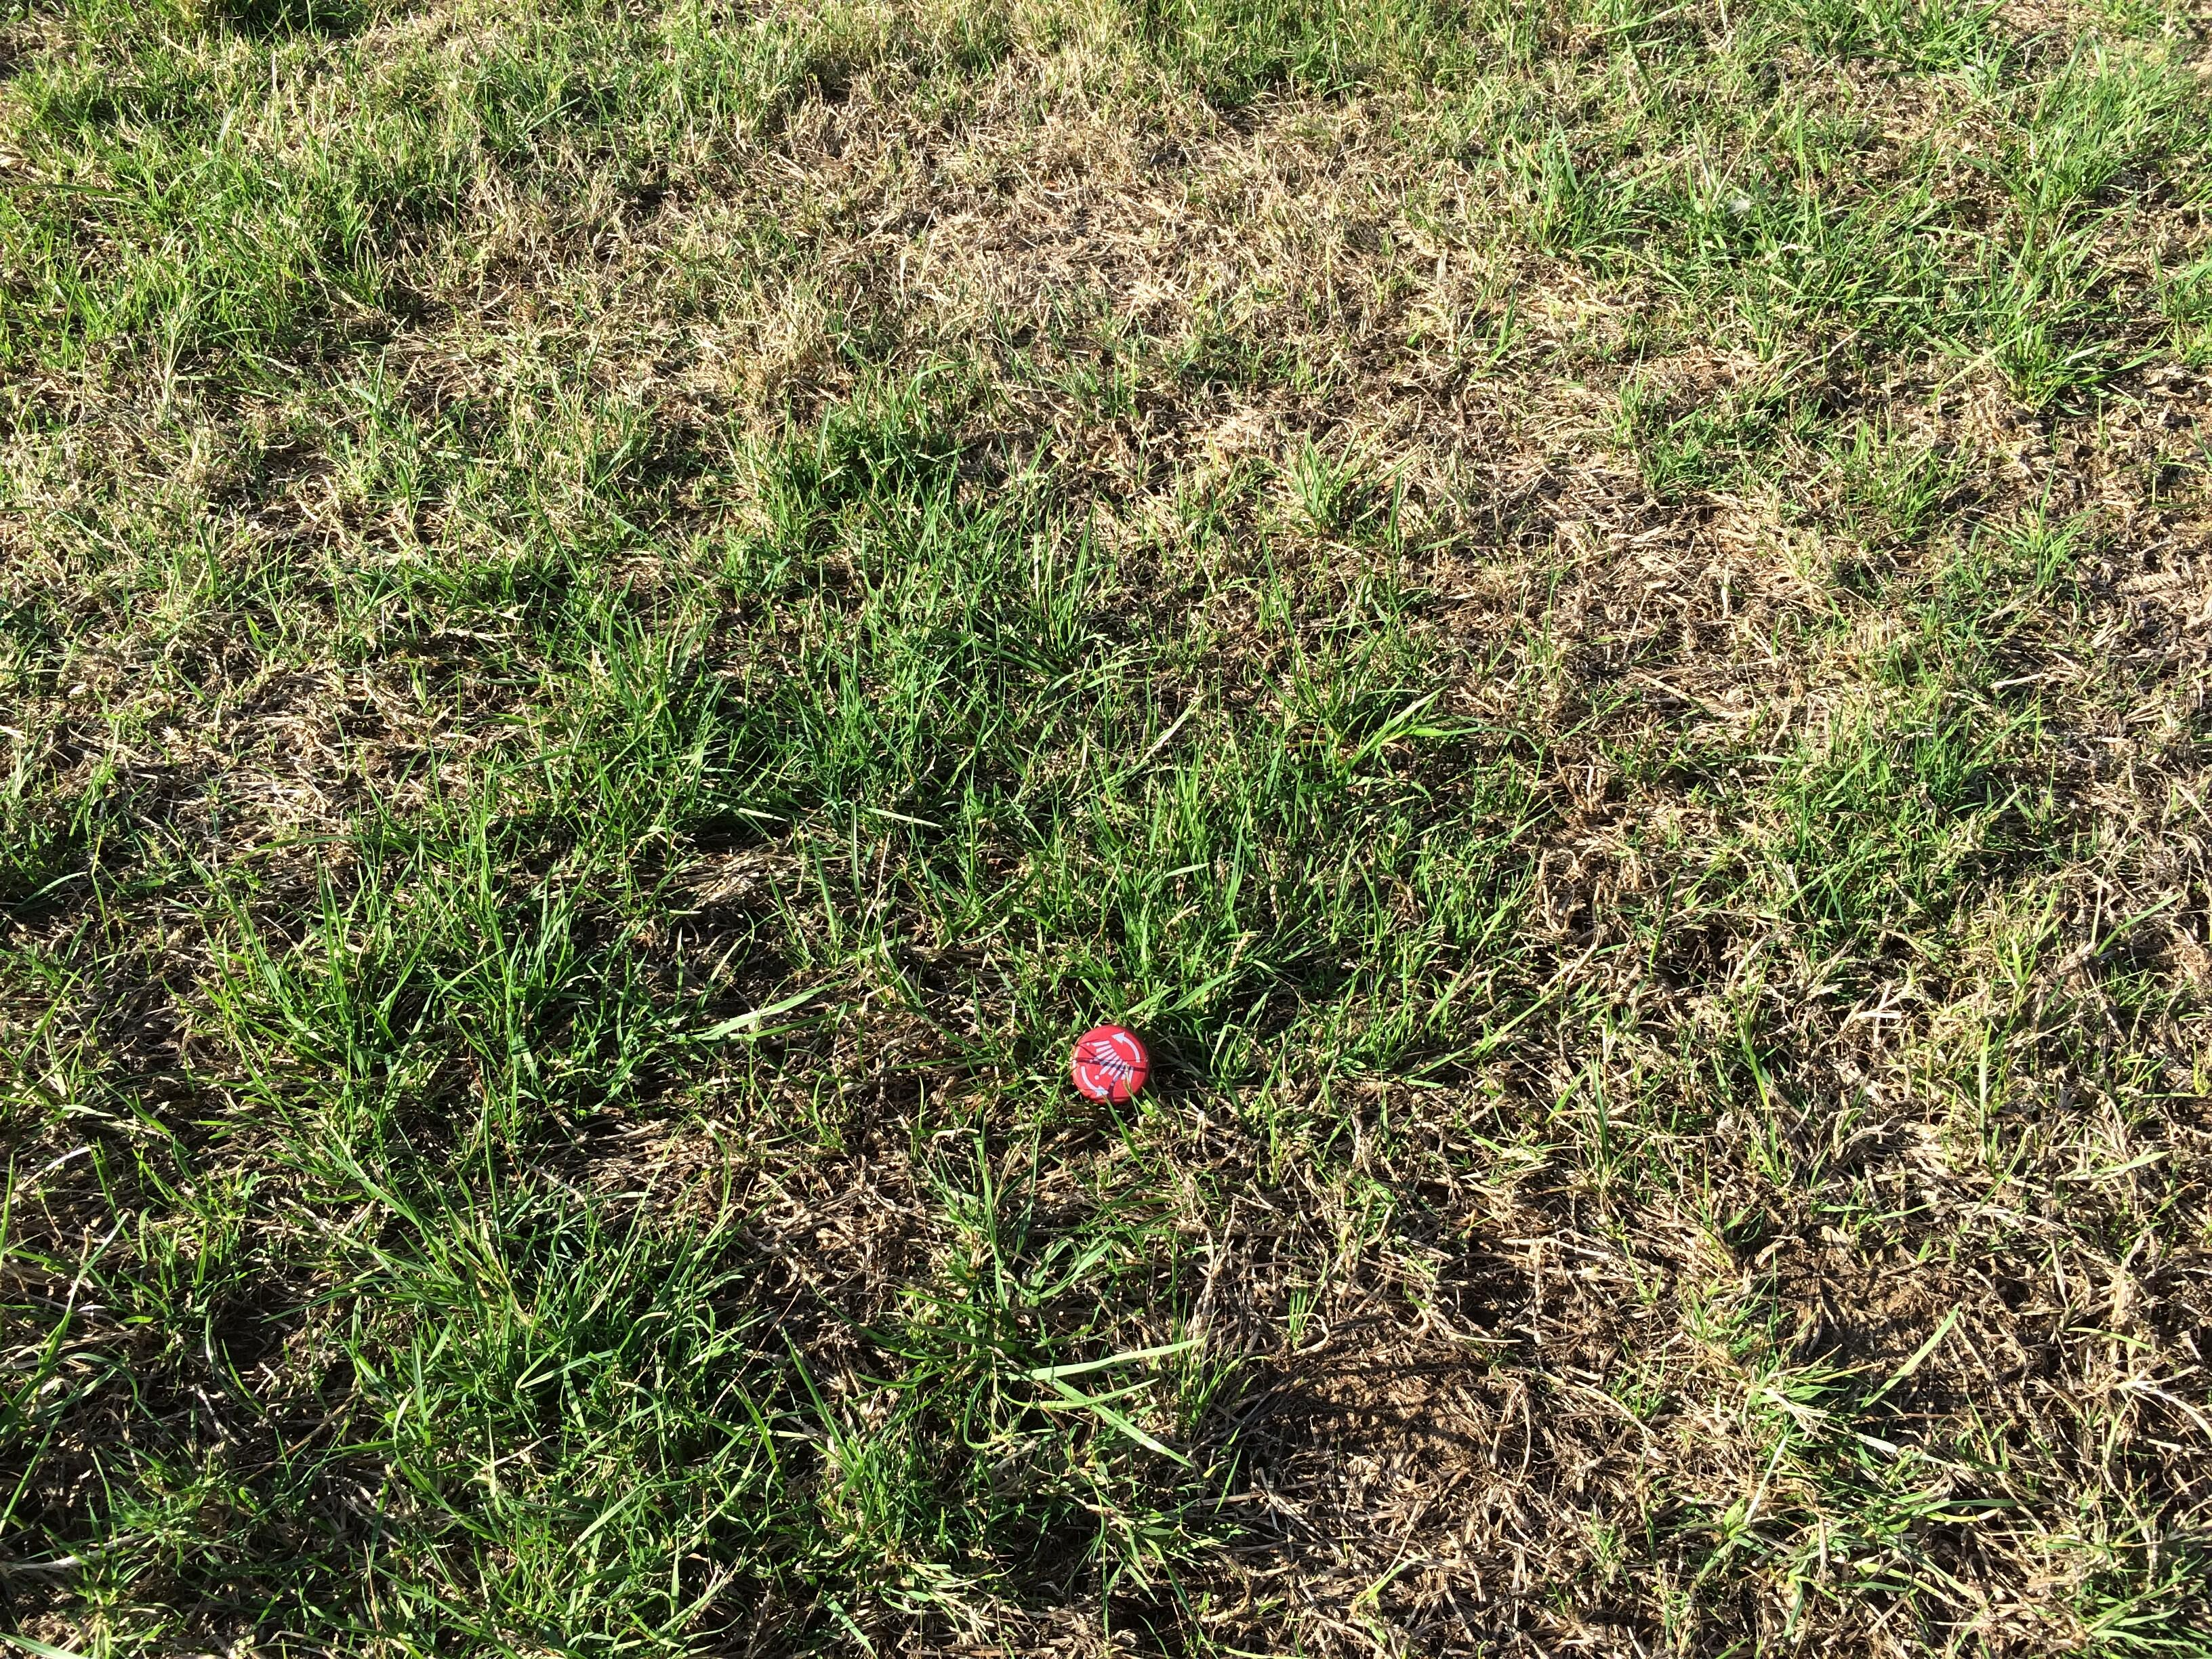Trash: (1066, 1016, 1144, 1100)
